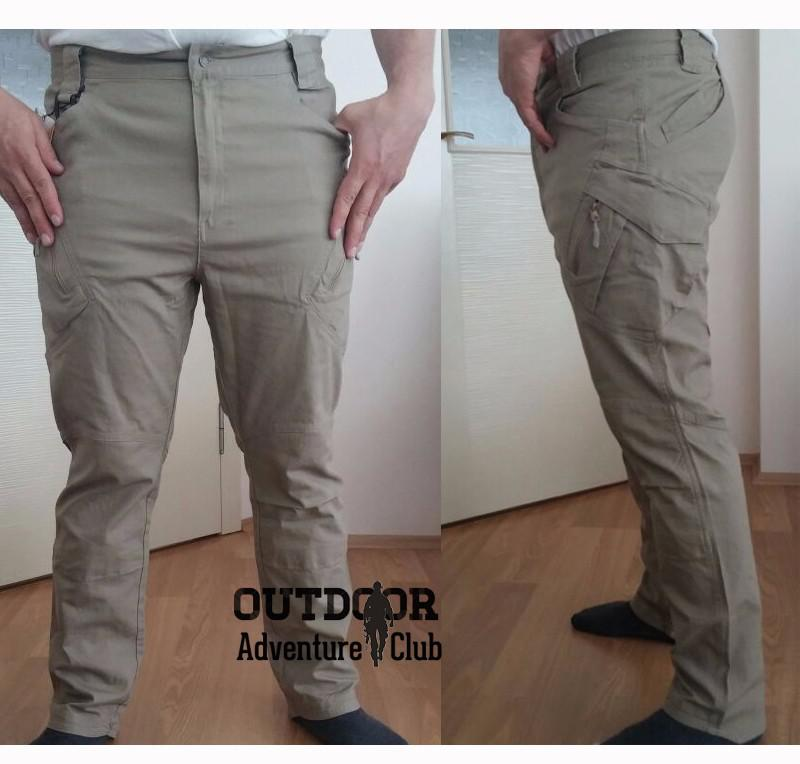pants: (34, 51, 360, 726), (518, 29, 767, 740)
